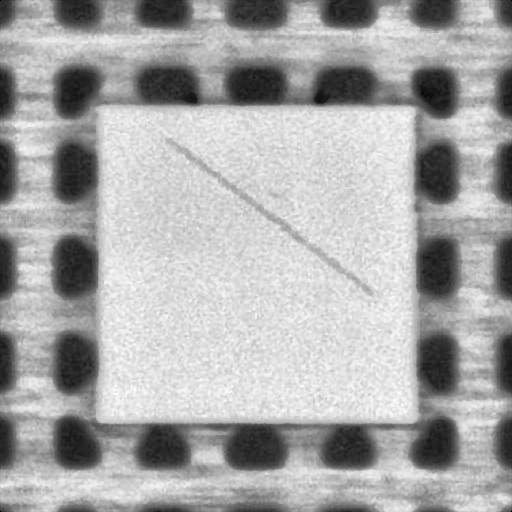DIE_CRACK: (166, 138, 370, 293)
